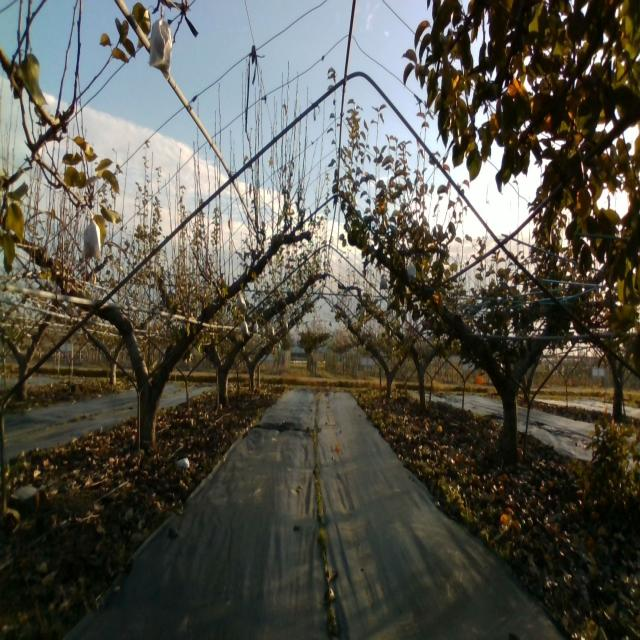pearbags: (147, 6, 173, 75), (80, 210, 102, 260)
